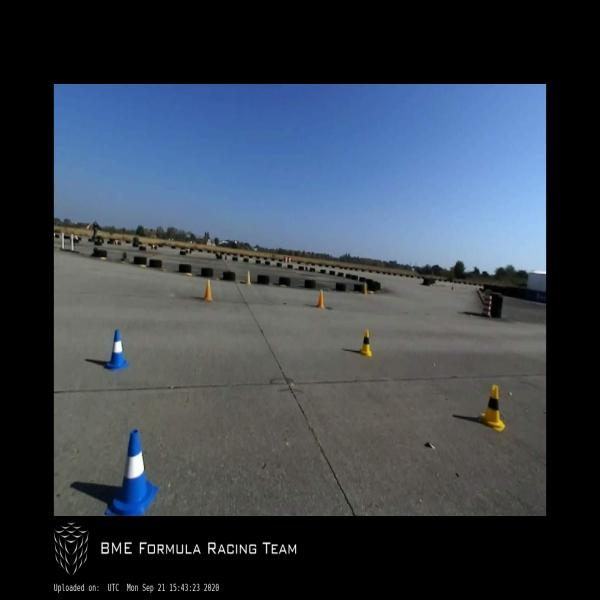blue_cone: (105, 429, 158, 515), (105, 328, 128, 370)
unknown_cone: (316, 289, 325, 308), (204, 280, 212, 300), (245, 271, 251, 285)
yellow_cone: (478, 385, 505, 432), (359, 328, 372, 357)
